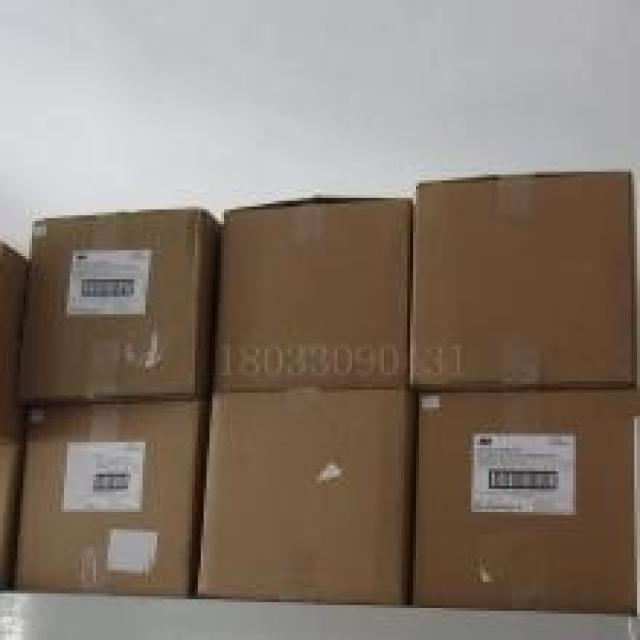box: (413, 384, 640, 614), (410, 169, 637, 387), (195, 387, 416, 605), (212, 192, 413, 393), (20, 209, 224, 404), (12, 399, 209, 596), (0, 239, 29, 436), (0, 428, 23, 588)
